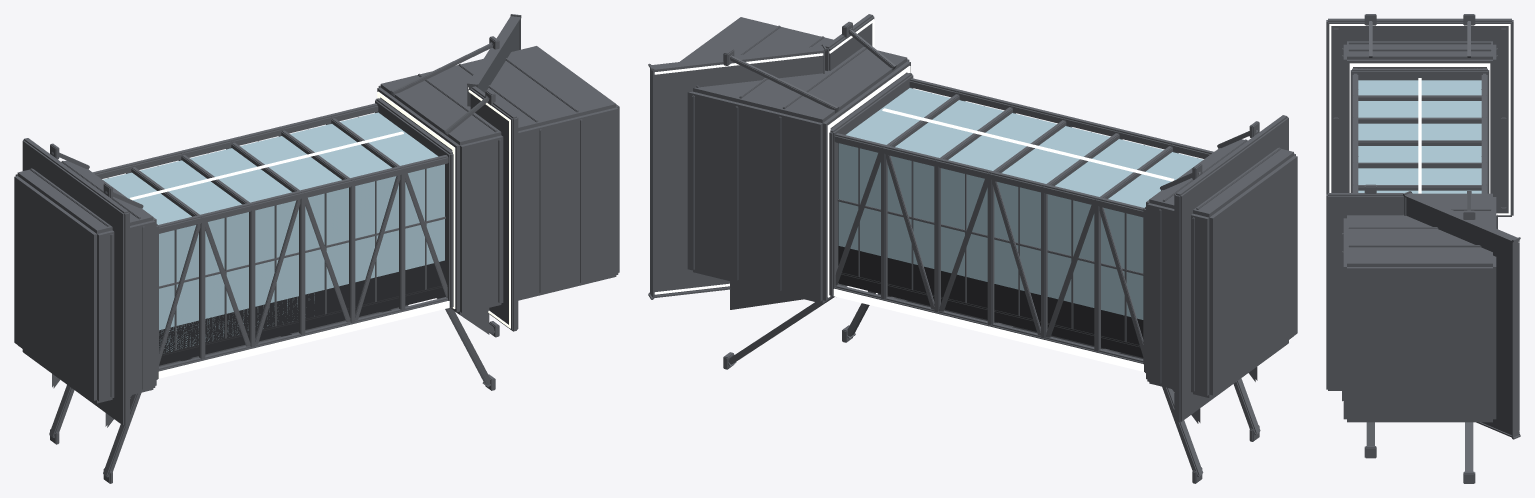
The model's file is sky342b3.glb.
3 renders of one model, left to right at view 1: azimuth 30°, elevation 25°; view 2: azimuth 150°, elevation 25°; view 3: azimuth 270°, elevation 25°, orthographic. The views are drawn at different scales.
Parts seen in each view (by area): view 1: bl-steel, bl-glass, bl-deck, bl-glow; view 2: bl-steel, bl-glass, bl-deck, bl-glow; view 3: bl-steel, bl-glass, bl-glow.
Boxes of the visible parts, bbox=[...] form: bl-steel: bbox=[14, 14, 619, 483]; bl-glass: bbox=[103, 112, 444, 351]; bl-deck: bbox=[159, 164, 445, 365]; bl-glow: bbox=[130, 87, 510, 378]; bl-steel: bbox=[648, 14, 1297, 483]; bl-glass: bbox=[838, 88, 1202, 319]; bl-deck: bbox=[838, 143, 1143, 357]; bl-glow: bbox=[654, 19, 1174, 371]; bl-steel: bbox=[1326, 14, 1520, 483]; bl-glass: bbox=[1358, 80, 1481, 193]; bl-glow: bbox=[1329, 24, 1519, 431].
Size of the model in its own units: 11.3 by 6.09 by 3.94.
